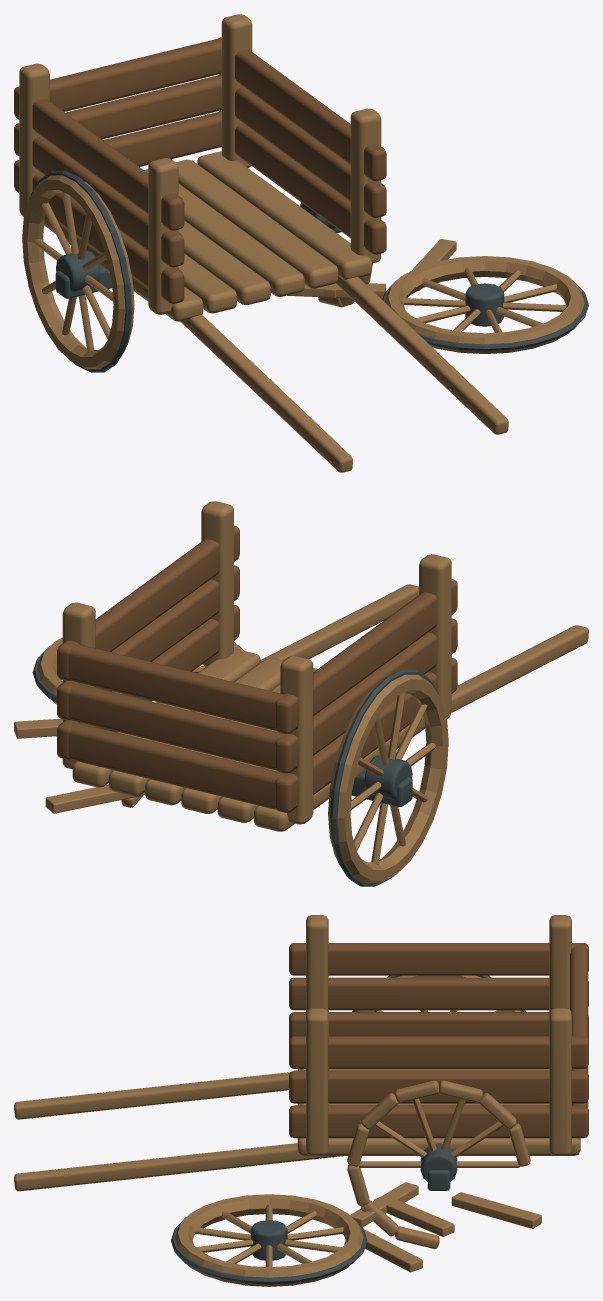
The model's file is SM_BrokenCart.fbx.
3 views of the same model, one above another, from view 1: azimuth 30°, elevation 25°; view 2: azimuth 150°, elevation 25°; view 3: azimuth 270°, elevation 25° (orthographic). The views are drawn at different scales.
Parts seen in each view (by area): view 1: Wheel wooden rim, Wheel wooden rim.001, Cart rear board.002, Cart side plank.002, Cart side plank.005, Cart bed plank.005, Cart bed plank.004, Cart rear board.001, Cart side plank.003, Cart side plank.004, Pull shaft.001, Pull shaft (+18 smaller); view 2: Wheel wooden rim, Cart rear board.001, Cart rear board, Cart rear board.002, Cart side plank.002, Cart side plank.005, Cart side plank.001, Cart side plank.004, Cart side upright.001, Cart side plank, Pull shaft, Cart side upright.002 (+19 smaller); view 3: Cart side plank.005, Cart side plank.001, Cart side plank.002, Cart side plank.004, Cart side plank.003, Wheel wooden rim.001, Cart side plank, Pull shaft.001, Pull shaft, Cart side upright.002, Cart side upright.003, Cart bed plank.005 (+21 smaller).
Boxes of the visible parts, x1,y1,x2,y2 form: Wheel wooden rim: (22, 175, 134, 369); Wheel wooden rim.001: (385, 256, 584, 353); Cart rear board.002: (50, 38, 221, 111); Cart side plank.002: (14, 86, 184, 230); Cart side plank.005: (218, 37, 386, 181); Cart bed plank.005: (197, 151, 371, 279); Cart bed plank.004: (176, 159, 338, 288); Cart rear board.001: (65, 75, 221, 139); Cart side plank.003: (218, 110, 386, 254); Cart side plank.004: (218, 74, 386, 217); Pull shaft.001: (336, 276, 508, 434); Pull shaft: (180, 315, 352, 472); Wheel wooden rim: (328, 674, 448, 883); Cart rear board.001: (68, 683, 284, 770); Cart rear board: (68, 722, 285, 809); Cart rear board.002: (68, 643, 284, 730); Cart side plank.002: (275, 579, 457, 733); Cart side plank.005: (57, 526, 239, 680); Cart side plank.001: (275, 618, 457, 773); Cart side plank.004: (57, 565, 239, 720); Cart side upright.001: (280, 655, 313, 824); Cart side plank: (275, 658, 457, 812); Pull shaft: (451, 625, 588, 712); Cart side upright.002: (201, 501, 233, 666); Cart side plank.005: (289, 1036, 588, 1068); Cart side plank.001: (289, 977, 588, 1010); Cart side plank.002: (289, 943, 588, 975); Cart side plank.004: (289, 1070, 588, 1103); Cart side plank.003: (289, 1105, 588, 1138); Wheel wooden rim.001: (175, 1194, 363, 1286); Cart side plank: (289, 1012, 588, 1040); Pull shaft.001: (14, 1143, 342, 1191); Pull shaft: (14, 1072, 290, 1119); Cart side upright.002: (306, 1008, 328, 1155); Cart side upright.003: (549, 1008, 571, 1155); Cart bed plank.005: (297, 1138, 580, 1155).
Size of what is drawn, in the model's own units: 328 by 182 by 406.
